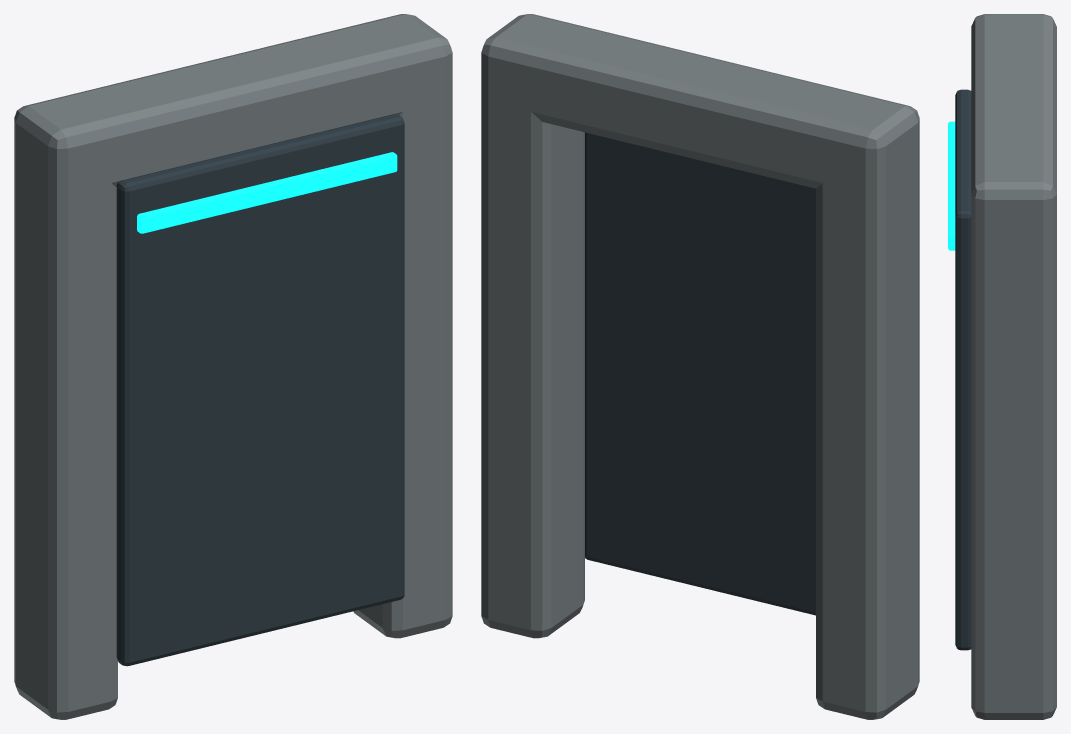
File: Door-Frame.glb
The picture shows the model from 3 angles, left to right: view 1: azimuth 30°, elevation 25°; view 2: azimuth 150°, elevation 25°; view 3: azimuth 270°, elevation 25°; orthographic projection. The views are drawn at different scales.
Visible parts, largest first — view 1: DoorFrame_InnerMetal, DoorFrame_Left, DoorFrame_Top, DoorFrame_Right, DoorFrame_CyanLintel; view 2: DoorFrame_InnerMetal, DoorFrame_Left, DoorFrame_Right, DoorFrame_Top; view 3: DoorFrame_Right, DoorFrame_Top, DoorFrame_InnerMetal, DoorFrame_CyanLintel.
Part boxes in pixels (x1,y1,x2,y2): DoorFrame_InnerMetal: (116,114,404,666); DoorFrame_Left: (14,148,117,719); DoorFrame_Top: (14,14,452,193); DoorFrame_Right: (353,83,452,638); DoorFrame_CyanLintel: (137,152,397,233); DoorFrame_InnerMetal: (585,132,815,615); DoorFrame_Left: (816,163,919,719); DoorFrame_Right: (481,82,584,638); DoorFrame_Top: (481,14,919,193); DoorFrame_Right: (971,221,1056,719); DoorFrame_Top: (971,14,1056,240); DoorFrame_InnerMetal: (955,89,971,650); DoorFrame_CyanLintel: (948,121,955,250).
Bounding box in the file's own units: 1.88 × 2.63 × 0.4825.
